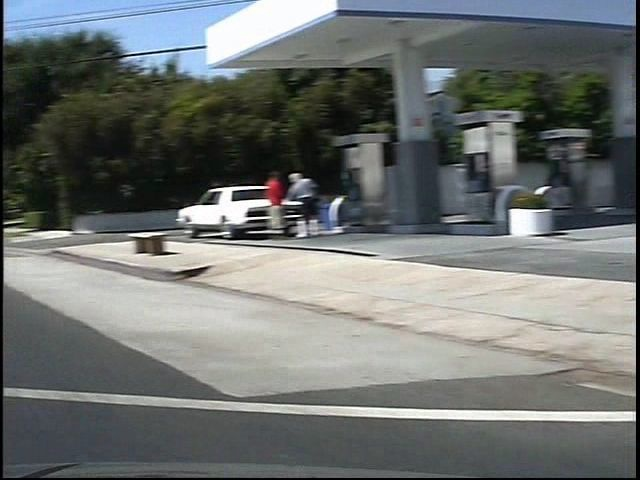person: (265, 169, 304, 243), (241, 167, 269, 243)
